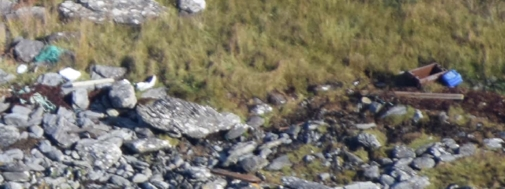scattered_barrel: (12, 44, 83, 85)
straight_bar: (387, 74, 471, 108), (200, 153, 274, 185), (67, 66, 118, 97)
white_in_green: (391, 38, 481, 109), (122, 64, 170, 98)
